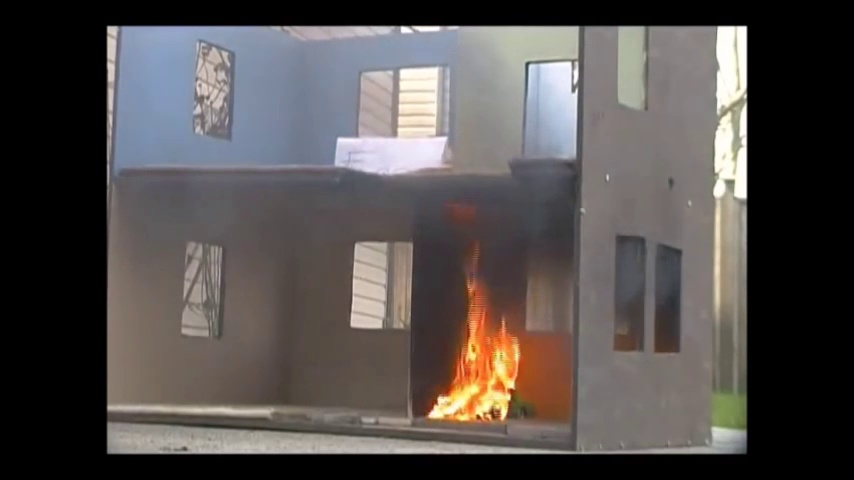fire: (430, 246, 521, 424)
